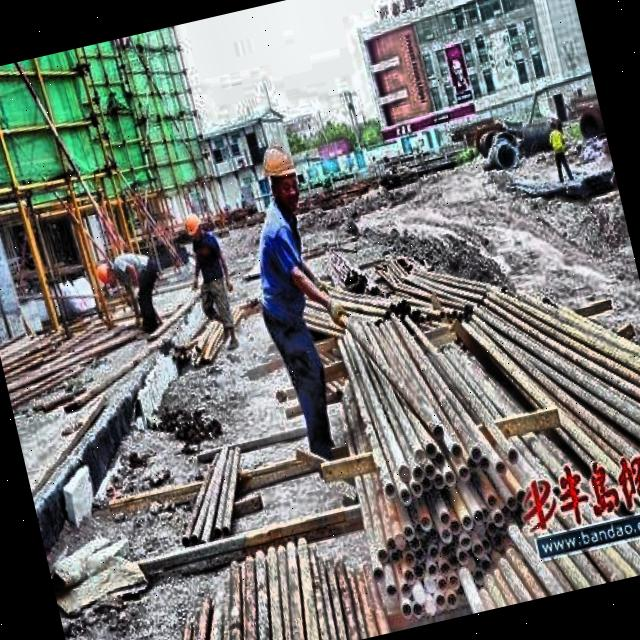helmet: (252, 130, 307, 220), (179, 212, 211, 252), (90, 255, 122, 291)
